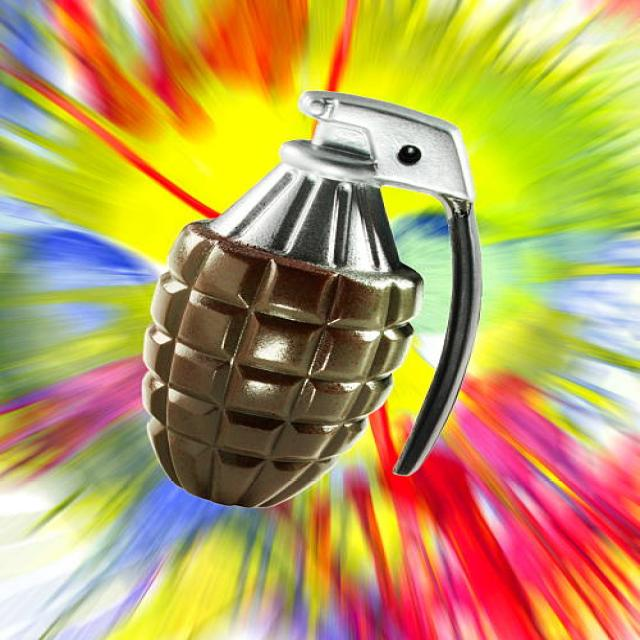grenade: (128, 78, 490, 510)
